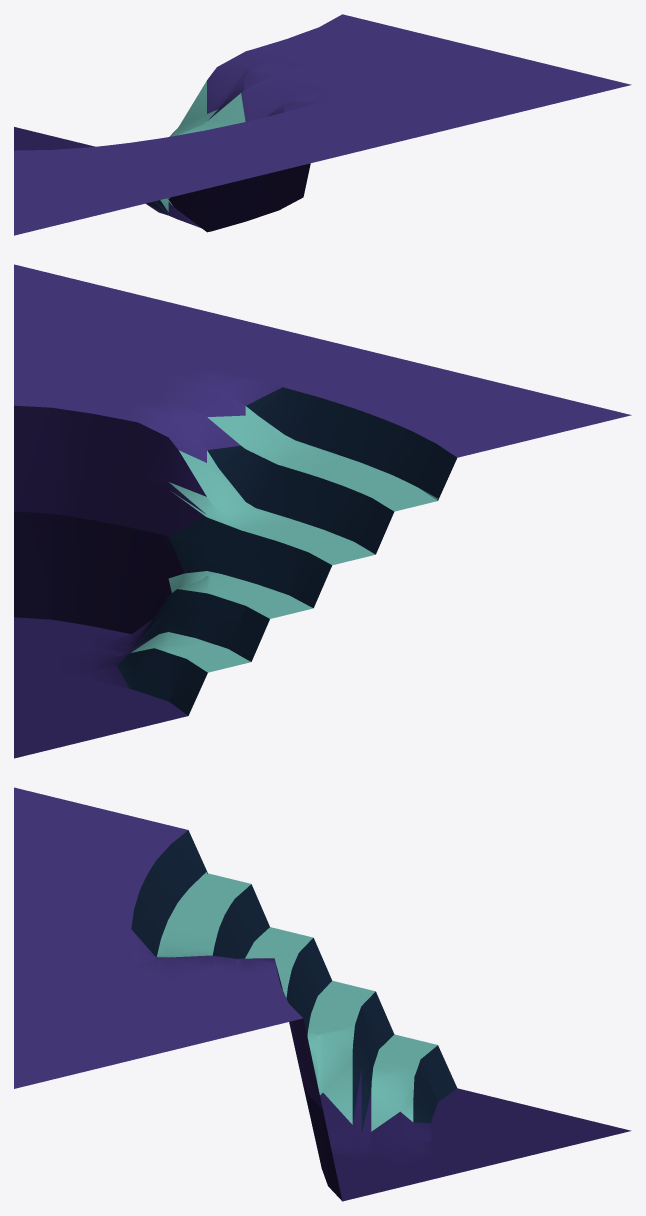
Rendered from MODULE_ALIEN_MIX_SIDE_B_1.fbx.
3 renders of one model, top to bottom at view 1: azimuth 30°, elevation 25°; view 2: azimuth 150°, elevation 25°; view 3: azimuth 270°, elevation 25°, orthographic.
Parts seen in each view (by area): view 1: MODULE_ALIEN_MIX_SIDE_B_1__export; view 2: MODULE_ALIEN_MIX_SIDE_B_1__export; view 3: MODULE_ALIEN_MIX_SIDE_B_1__export.
Part boxes in pixels (bbox=[...]): MODULE_ALIEN_MIX_SIDE_B_1__export: bbox=[14, 14, 631, 235]; MODULE_ALIEN_MIX_SIDE_B_1__export: bbox=[14, 264, 631, 758]; MODULE_ALIEN_MIX_SIDE_B_1__export: bbox=[14, 787, 631, 1201].
Bounding box in the file's own units: 100 × 29.78 × 86.6.
